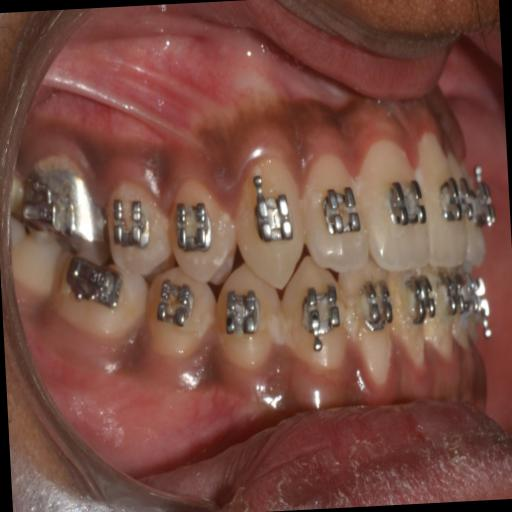correct_brace: (166, 174, 236, 290), (384, 168, 428, 242), (254, 180, 294, 245), (434, 172, 476, 232), (322, 182, 362, 245)
incorrect_brace: (299, 146, 370, 276), (173, 192, 217, 261)
